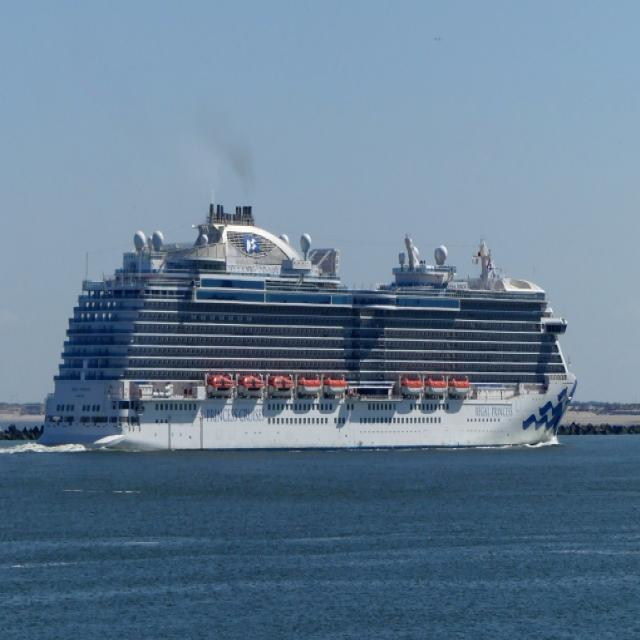cruises: (37, 201, 583, 461)
